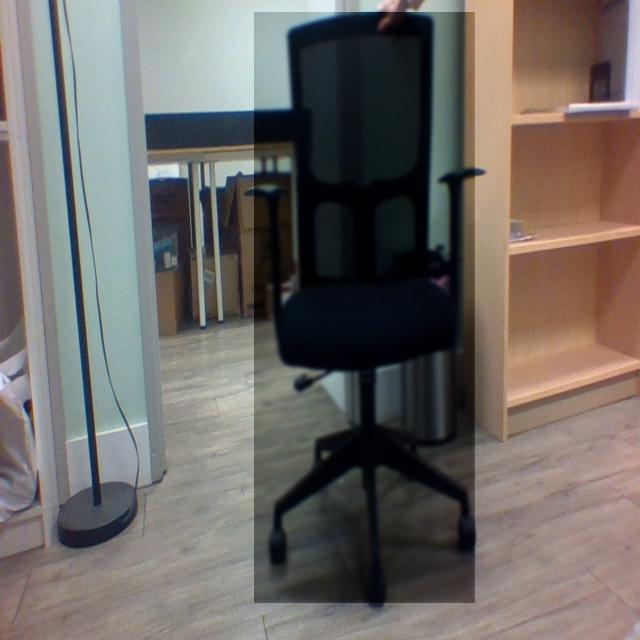black-chair: (254, 12, 476, 604)
